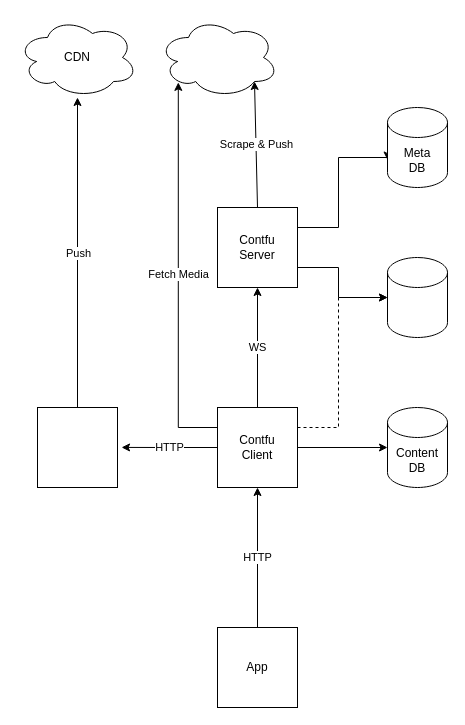
Image size: 465x725. Some labels were removed from this diagram. Each missing label, with the centre of its shape:
Access DB: the point at 417,297
CMS: the point at 218,57
Media Optimizer: the point at 77,447
